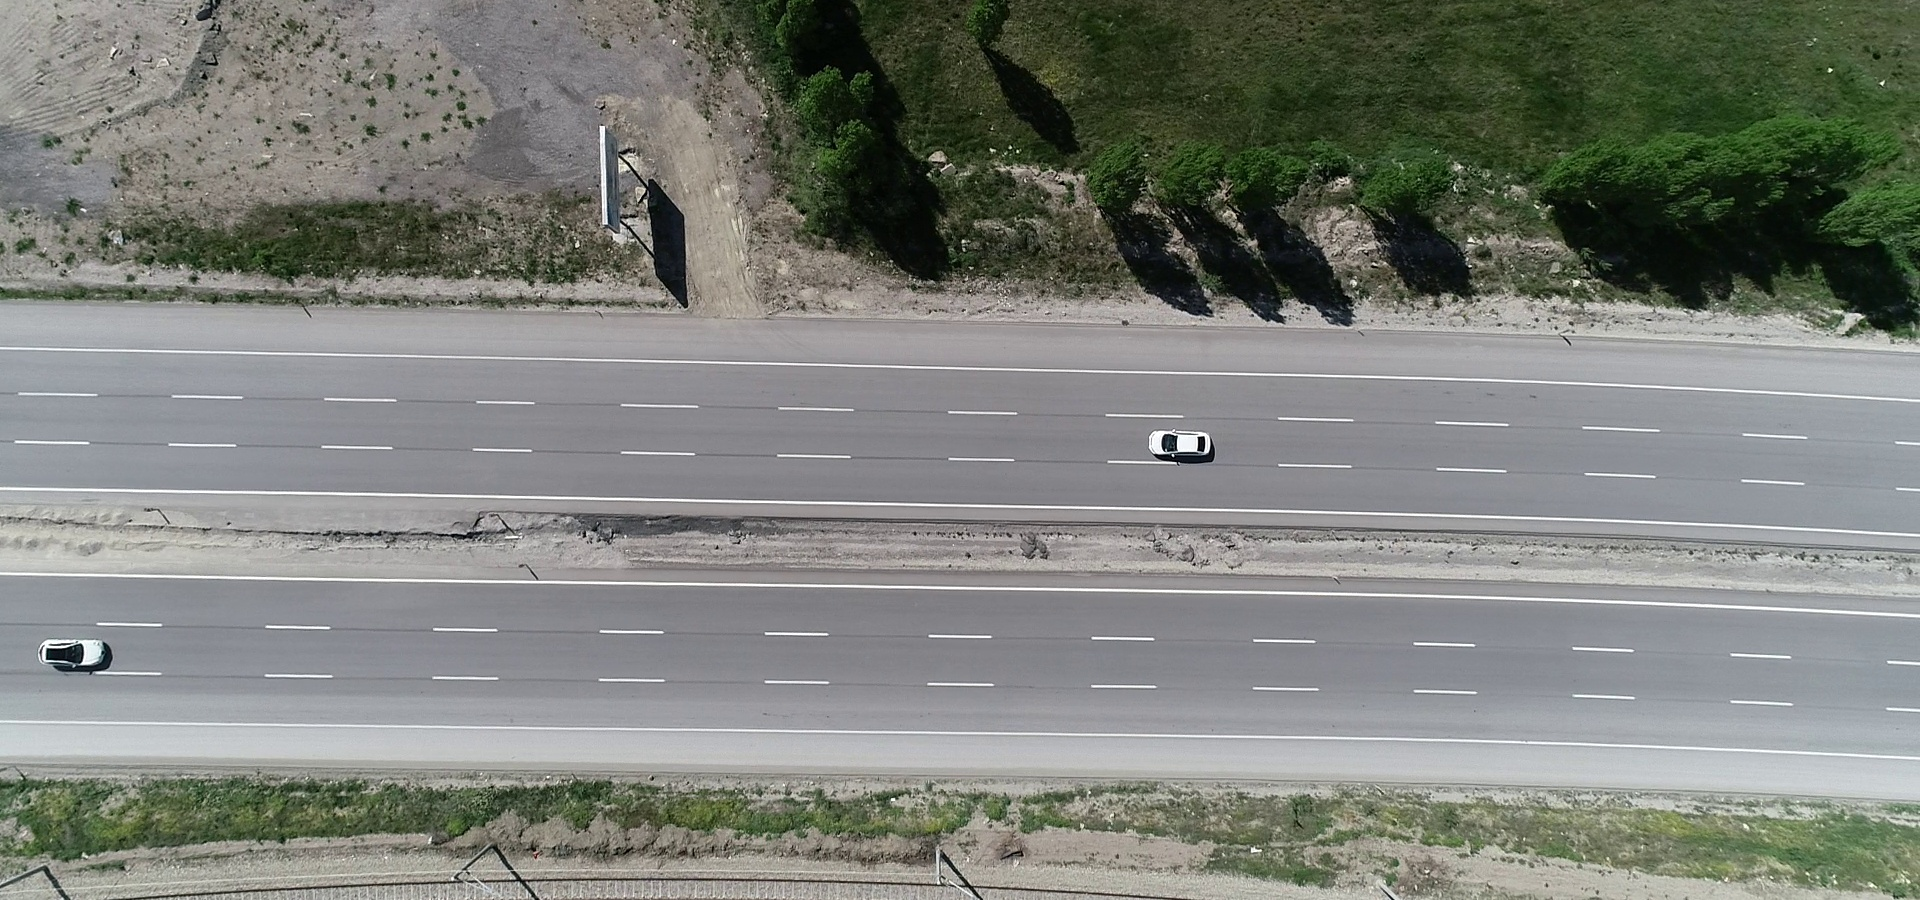araba: (32, 631, 119, 672), (1144, 429, 1226, 460)
